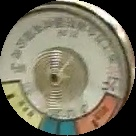green: (40, 115, 78, 136)
red: (76, 92, 125, 136)
yellow: (2, 80, 44, 133)
